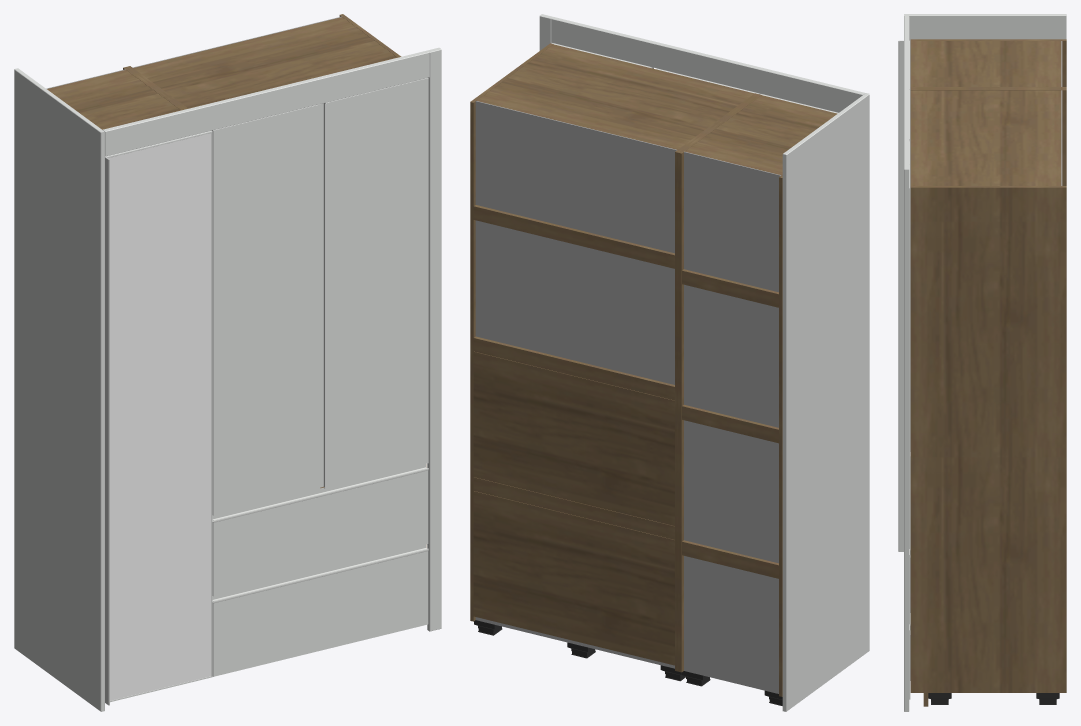
File: THST00054.glb
3 renders of one model, left to right at view 1: azimuth 30°, elevation 25°; view 2: azimuth 150°, elevation 25°; view 3: azimuth 270°, elevation 25°, orthographic. The views are drawn at different scales.
Parts seen in each view (by area): view 1: node_1375_StaticMeshComponent0, node_1240_StaticMeshComponent0, node_1755_StaticMeshComponent0, node_1756_StaticMeshComponent0, node_1776_StaticMeshComponent0, node_1769_StaticMeshComponent0, node_1758_StaticMeshComponent0, node_1559_StaticMeshComponent0, node_1145_2_StaticMeshComponent0, node_1378_StaticMeshComponent0, node_1241_StaticMeshComponent0, node_1757_StaticMeshComponent0 (+6 smaller); view 2: node_1240_StaticMeshComponent0, node_1379_StaticMeshComponent0, node_1759_StaticMeshComponent0, node_1787_2_StaticMeshComponent0, node_1785_2_StaticMeshComponent0, node_1758_StaticMeshComponent0, node_1559_StaticMeshComponent0, node_1378_StaticMeshComponent0, node_1381_StaticMeshComponent0, node_1784_2_StaticMeshComponent0, node_1783_2_StaticMeshComponent0, node_1241_StaticMeshComponent0 (+8 smaller); view 3: node_1761_StaticMeshComponent0, node_1758_StaticMeshComponent0, node_1378_StaticMeshComponent0, node_1240_StaticMeshComponent0, node_1146_2_StaticMeshComponent0, node_1377_StaticMeshComponent0, node_1760_StaticMeshComponent0, node_1560_StaticMeshComponent0, node_1380_StaticMeshComponent0, node_1756_StaticMeshComponent0, node_1241_StaticMeshComponent0, node_1381_StaticMeshComponent0.
Part boxes in pixels (box(x1,y1,x2,y2)): node_1375_StaticMeshComponent0: box(108, 133, 211, 700); node_1240_StaticMeshComponent0: box(14, 70, 100, 711); node_1755_StaticMeshComponent0: box(212, 104, 320, 515); node_1756_StaticMeshComponent0: box(326, 78, 428, 487); node_1776_StaticMeshComponent0: box(212, 551, 428, 676); node_1769_StaticMeshComponent0: box(212, 470, 428, 596); node_1758_StaticMeshComponent0: box(133, 17, 397, 108); node_1559_StaticMeshComponent0: box(105, 53, 429, 155); node_1145_2_StaticMeshComponent0: box(430, 50, 441, 631); node_1378_StaticMeshComponent0: box(47, 70, 180, 129); node_1241_StaticMeshComponent0: box(14, 68, 104, 711); node_1757_StaticMeshComponent0: box(320, 102, 327, 488); node_1240_StaticMeshComponent0: box(786, 95, 869, 711); node_1379_StaticMeshComponent0: box(684, 151, 780, 693); node_1759_StaticMeshComponent0: box(475, 101, 676, 668); node_1787_2_StaticMeshComponent0: box(473, 491, 674, 665); node_1785_2_StaticMeshComponent0: box(473, 351, 674, 525); node_1758_StaticMeshComponent0: box(477, 44, 754, 149); node_1559_StaticMeshComponent0: box(551, 19, 862, 112); node_1378_StaticMeshComponent0: box(685, 95, 837, 175); node_1381_StaticMeshComponent0: box(678, 94, 761, 672); node_1784_2_StaticMeshComponent0: box(473, 336, 674, 400); node_1783_2_StaticMeshComponent0: box(473, 205, 674, 268); node_1241_StaticMeshComponent0: box(782, 93, 869, 711); node_1761_StaticMeshComponent0: box(910, 186, 1066, 692); node_1758_StaticMeshComponent0: box(910, 90, 1061, 185); node_1378_StaticMeshComponent0: box(910, 41, 1061, 86); node_1240_StaticMeshComponent0: box(909, 16, 1065, 455); node_1146_2_StaticMeshComponent0: box(904, 164, 909, 711); node_1377_StaticMeshComponent0: box(898, 40, 903, 551); node_1760_StaticMeshComponent0: box(910, 88, 1066, 185); node_1560_StaticMeshComponent0: box(904, 15, 909, 164); node_1380_StaticMeshComponent0: box(910, 39, 1066, 86); node_1756_StaticMeshComponent0: box(909, 141, 909, 548); node_1241_StaticMeshComponent0: box(904, 14, 1066, 39); node_1381_StaticMeshComponent0: box(910, 87, 1066, 88).
Bounding box in the file's own units: 1.42 × 2.3 × 0.6463.
Materials: 12 (7 with a texture image).
